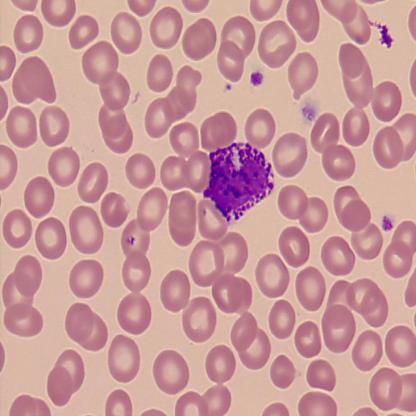Basophil: (200, 139, 275, 225)
